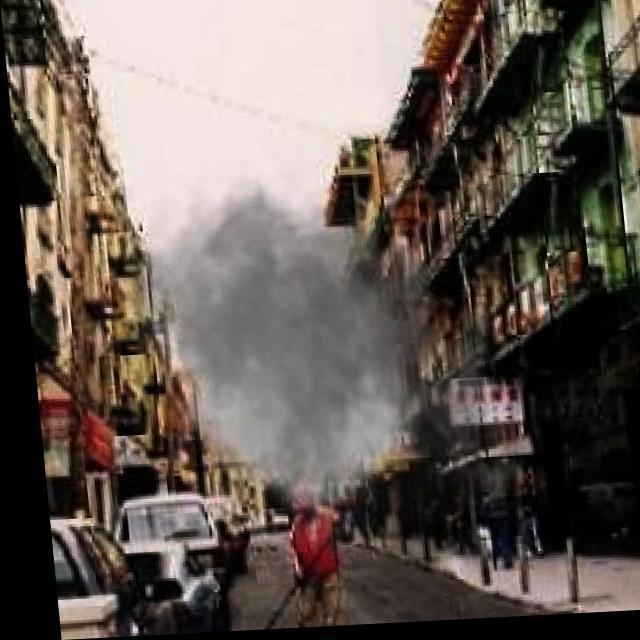Smoke: (123, 177, 479, 527)
